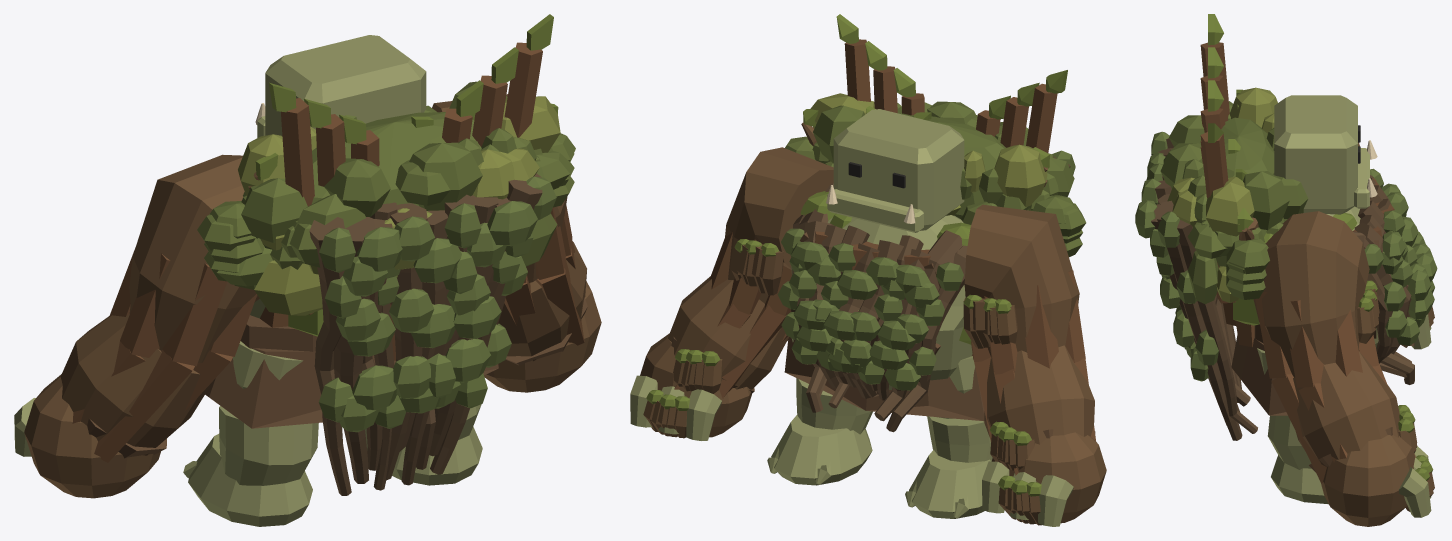
The model's file is host_21.glb.
3 renders of one model, left to right at view 1: azimuth 30°, elevation 25°; view 2: azimuth 150°, elevation 25°; view 3: azimuth 270°, elevation 25°, orthographic. The views are drawn at different scales.
Visible parts, largest first — view 1: V6 source anatomical upper arm L, Observed face, V6 source anatomical forearm L, V6 source anatomical palm L, Leather ragged skirt, V6 source anatomical shin L, V6 source anatomical bare foot L, V6 detail actual source organic moss back hump, V6 source anatomical forearm R, V6 source anatomical palm R, V6 detail source long tapered rear bark mantle, Root troll thick wrapped forearm bark.004 (+71 smaller); view 2: V6 source anatomical upper arm L, Observed face, V6 source anatomical forearm L, V6 source anatomical upper arm R, V6 source anatomical forearm R, V6 source anatomical bare foot R, V6 source anatomical palm L, V6 source anatomical bare foot L, Leather ragged skirt, V6 source anatomical thorax, V6 source anatomical palm R, V6 source anatomical shin L (+58 smaller); view 3: V6 source anatomical upper arm R, Observed face, V6 source anatomical forearm R, V6 source anatomical palm R, V6 detail actual source organic moss back hump, V6 detail source long tapered rear bark mantle.010, Leather ragged skirt, V6 detail source long tapered rear bark mantle.009, V6 detail irregular overlapping moss canopy.024, V6 detail irregular overlapping moss canopy.008, V6 source anatomical bare foot R, V6 source anatomical shin R (+50 smaller).
Boxes of the visible parts, x1,y1,x2,y2 form: V6 source anatomical upper arm L: [129, 154, 259, 362]; Observed face: [265, 35, 426, 135]; V6 source anatomical forearm L: [60, 314, 213, 455]; V6 source anatomical palm L: [24, 374, 160, 498]; Leather ragged skirt: [205, 345, 498, 428]; V6 source anatomical shin L: [219, 406, 318, 485]; V6 source anatomical bare foot L: [188, 433, 312, 526]; V6 detail actual source organic moss back hump: [260, 112, 481, 249]; V6 source anatomical forearm R: [498, 241, 586, 361]; V6 source anatomical palm R: [484, 281, 601, 392]; V6 detail source long tapered rear bark mantle: [309, 217, 351, 495]; Root troll thick wrapped forearm bark.004: [94, 350, 194, 462]; V6 source anatomical upper arm L: [964, 204, 1079, 357]; Observed face: [833, 109, 964, 230]; V6 source anatomical forearm L: [984, 345, 1094, 444]; V6 source anatomical upper arm R: [725, 147, 833, 303]; V6 source anatomical forearm R: [667, 276, 788, 389]; V6 source anatomical bare foot R: [771, 415, 872, 485]; V6 source anatomical palm L: [991, 432, 1106, 523]; V6 source anatomical bare foot L: [909, 449, 991, 518]; Leather ragged skirt: [784, 337, 984, 421]; V6 source anatomical thorax: [791, 215, 972, 389]; V6 source anatomical palm R: [640, 333, 752, 437]; V6 source anatomical shin L: [927, 416, 992, 462]; V6 source anatomical upper arm R: [1253, 211, 1369, 377]; Observed face: [1274, 95, 1357, 214]; V6 source anatomical forearm R: [1293, 351, 1399, 466]; V6 source anatomical palm R: [1321, 435, 1415, 526]; V6 detail actual source organic moss back hump: [1216, 117, 1287, 266]; V6 detail source long tapered rear bark mantle.010: [1177, 220, 1257, 433]; Leather ragged skirt: [1231, 334, 1287, 415]; V6 detail source long tapered rear bark mantle.009: [1154, 200, 1242, 440]; V6 detail irregular overlapping moss canopy.024: [1206, 176, 1254, 236]; V6 detail irregular overlapping moss canopy.008: [1243, 171, 1289, 229]; V6 source anatomical bare foot R: [1271, 455, 1328, 504]; V6 source anatomical shin R: [1267, 415, 1311, 469].
Size of the model in its own units: 1.92 by 1.58 by 1.12.
